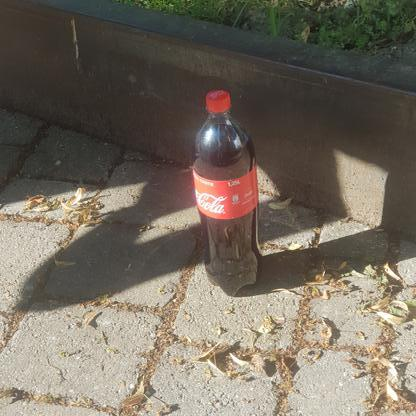coca-cola: (190, 87, 269, 298)
